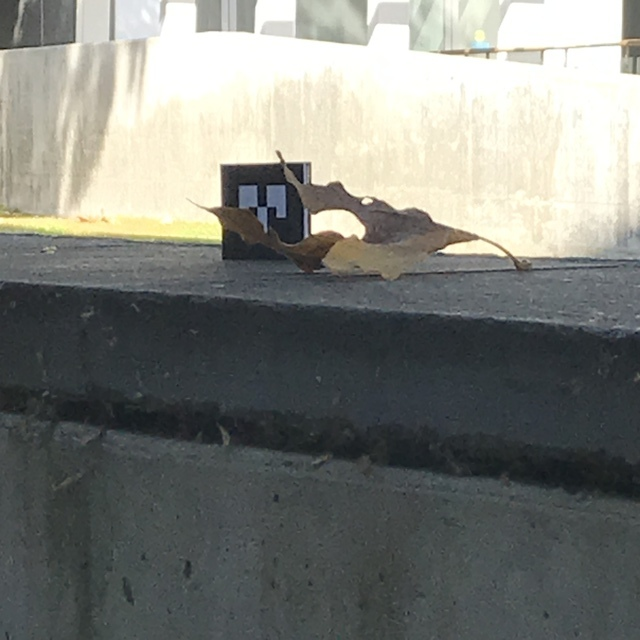ARTag: (221, 161, 312, 260)
